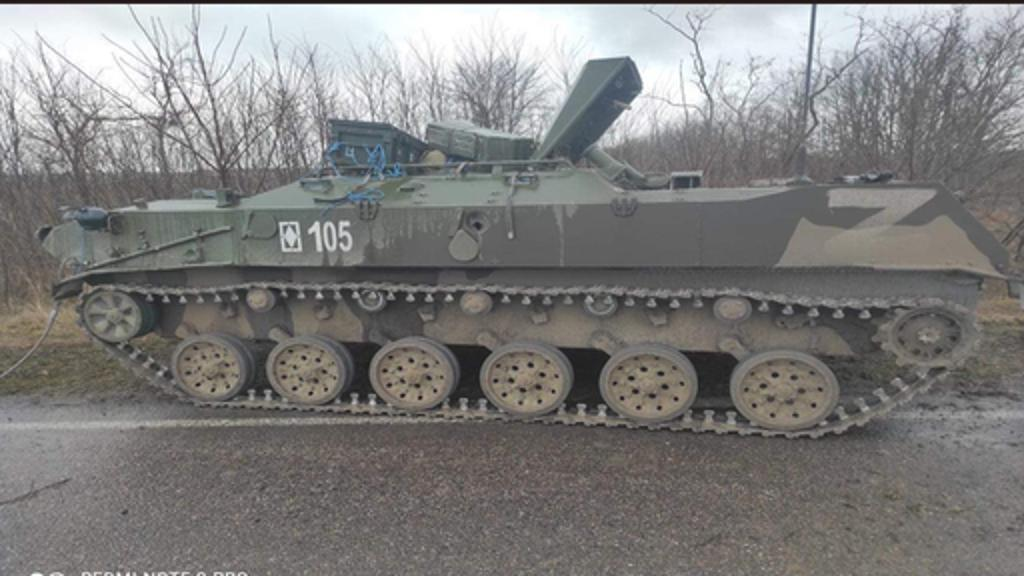APC-IFV: (22, 54, 1012, 442)
